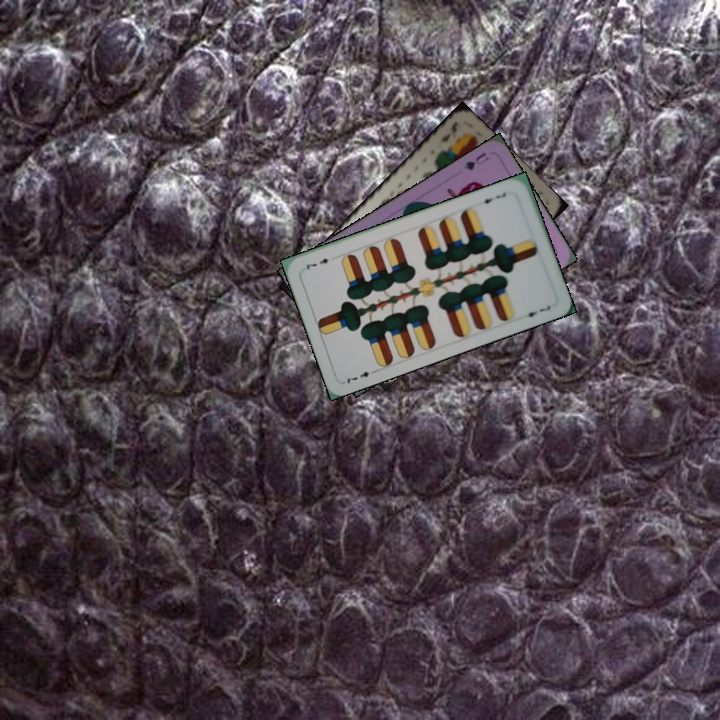E7: (340, 366, 379, 386), (476, 187, 509, 206)
EK: (436, 117, 460, 145)
GU: (460, 148, 491, 173)
